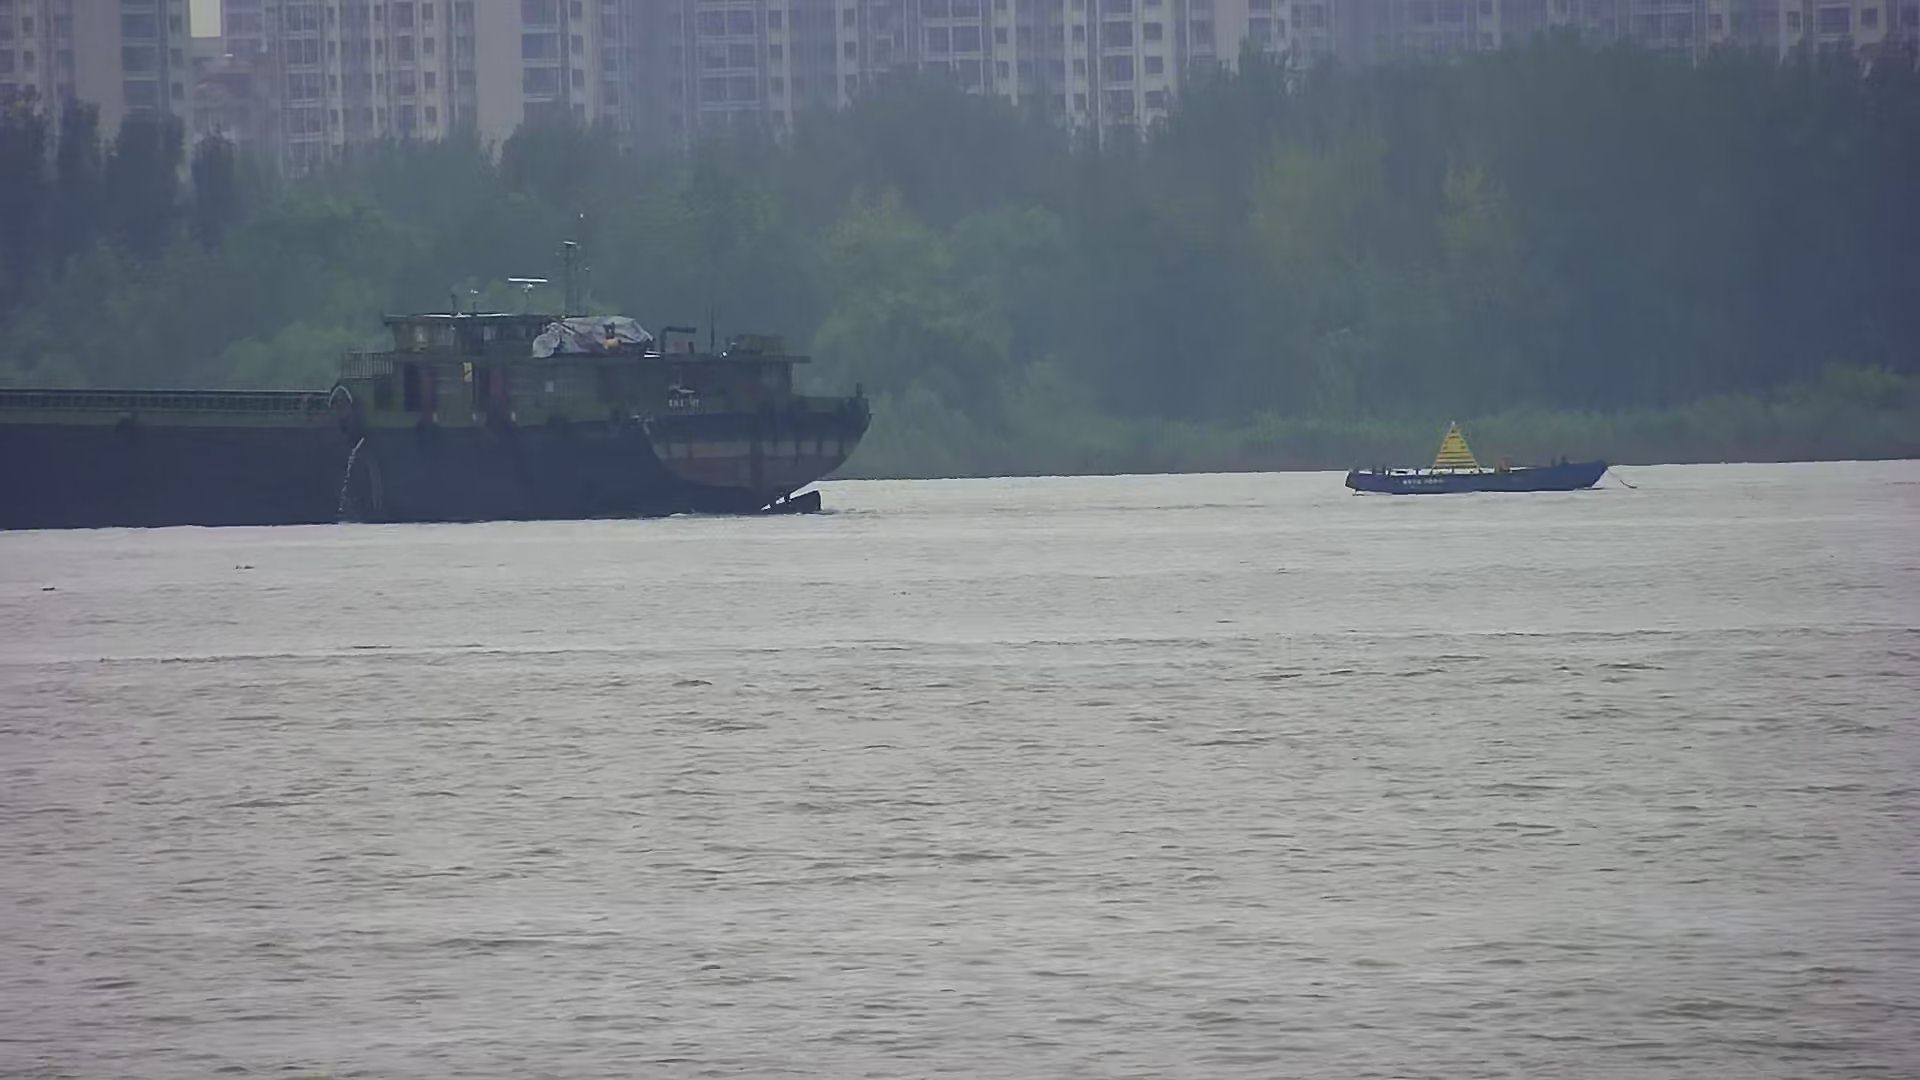boat: (1344, 415, 1609, 495)
ship: (1, 268, 872, 527)
